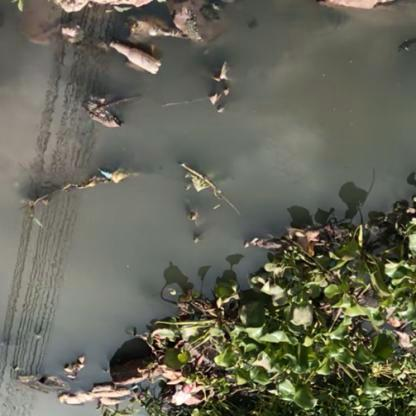Plastic: (110, 39, 163, 75)
Trash: (99, 164, 132, 188)
